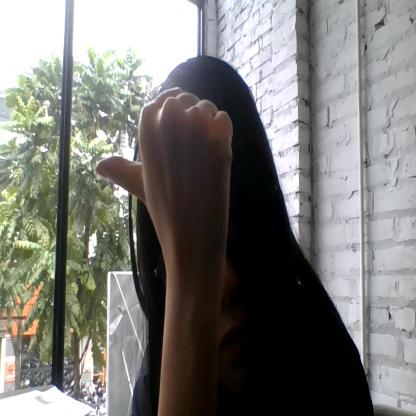right: (94, 84, 235, 240)
